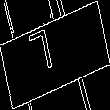L_S: (40, 26, 70, 84)
